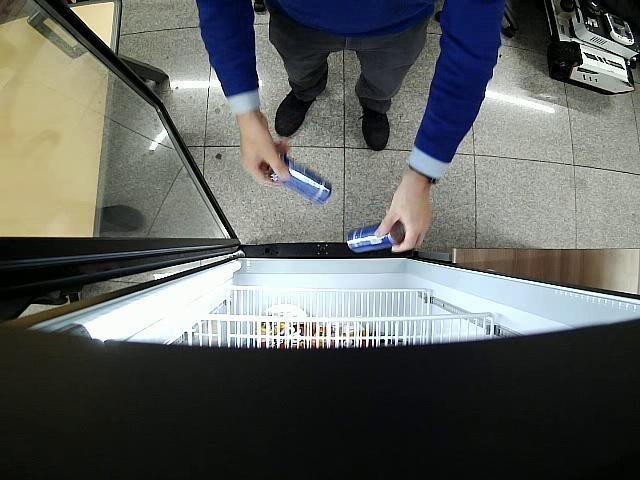16_hot6: (268, 154, 332, 206), (348, 222, 404, 253)
